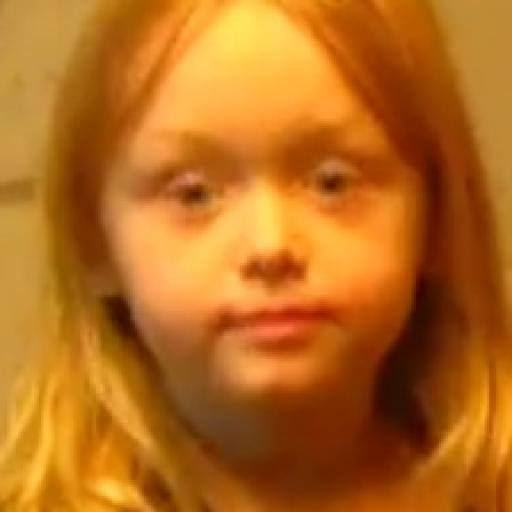Autism: (61, 17, 512, 415)
